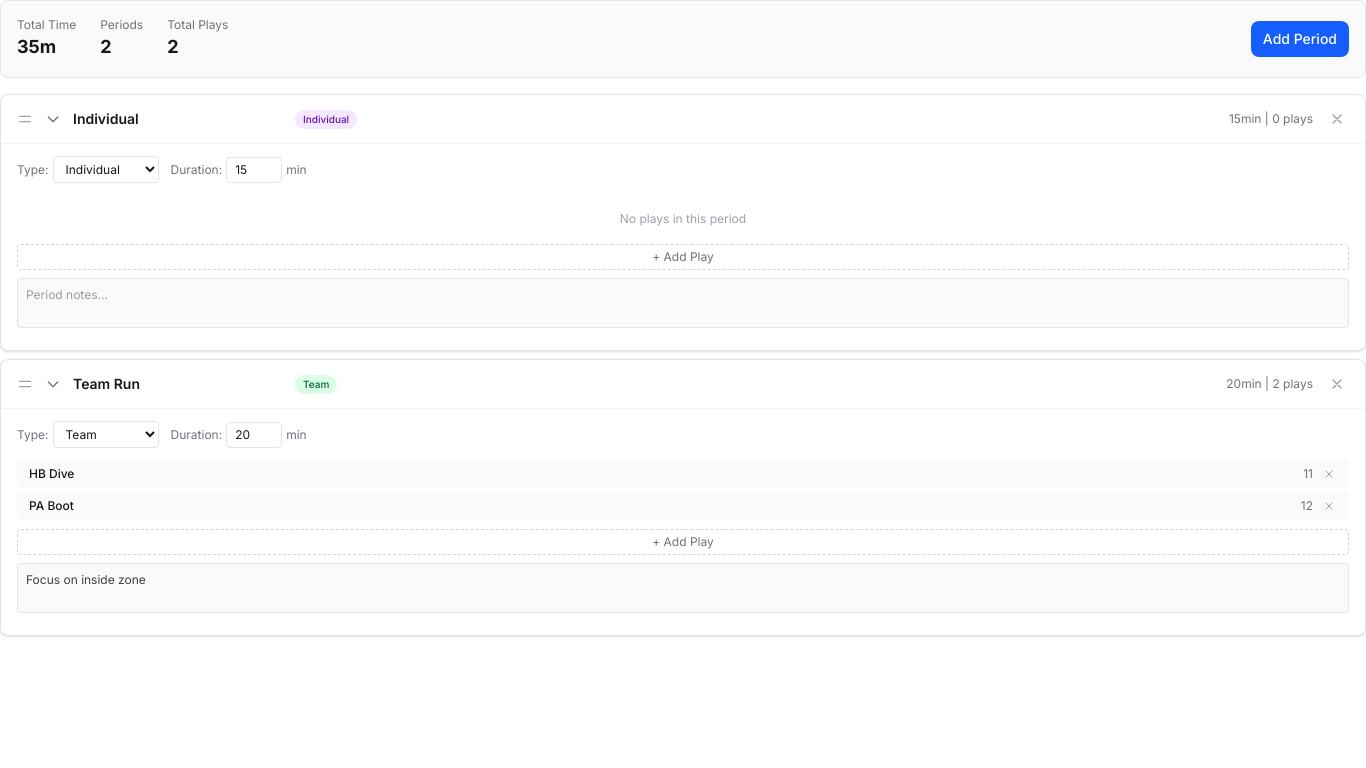
Test: PracticeScriptEditor › collapses and expands periods
The width and height of the screenshot is (1366, 768).
Expected: the element with test id "period-play-play-1" is shown, [17, 460, 1349, 488]
Click header to collapse
Click the element with test id "period-header-per-2". click: (316, 384)
box: [17, 372, 1349, 396]
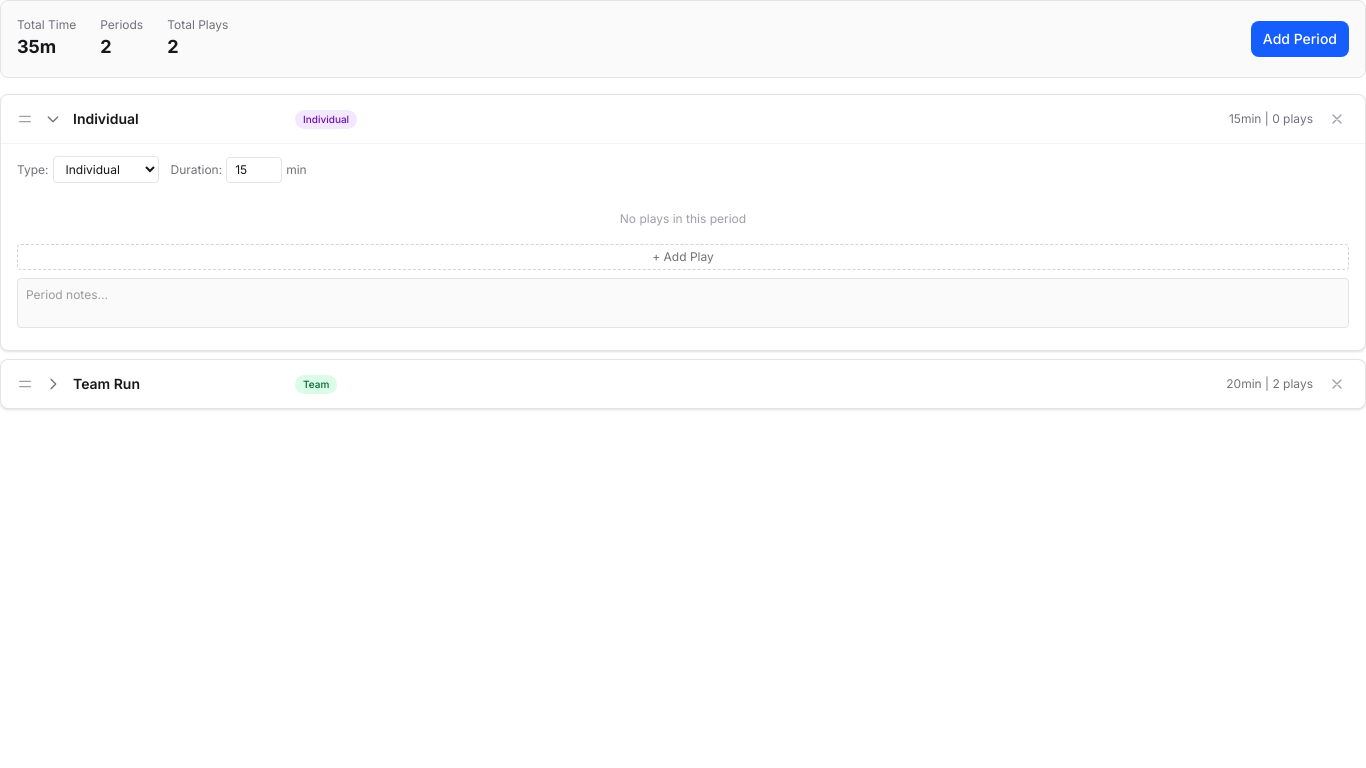
Result: the element with test id "period-play-play-1" is gone
Click header to expand
Click the element with test id "period-header-per-2". click: (316, 384)
box: [17, 372, 1349, 396]
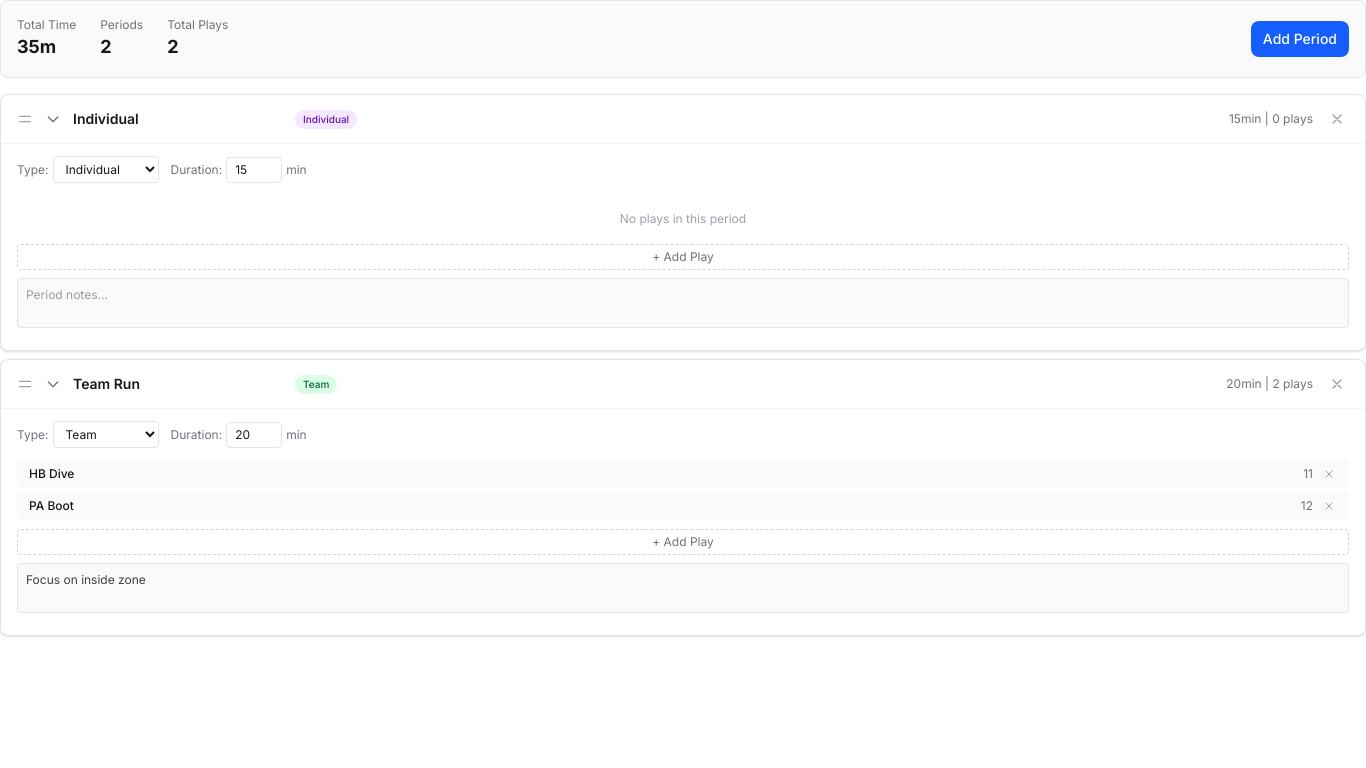
Result: the element with test id "period-play-play-1" is shown at [17, 460, 1349, 488]
